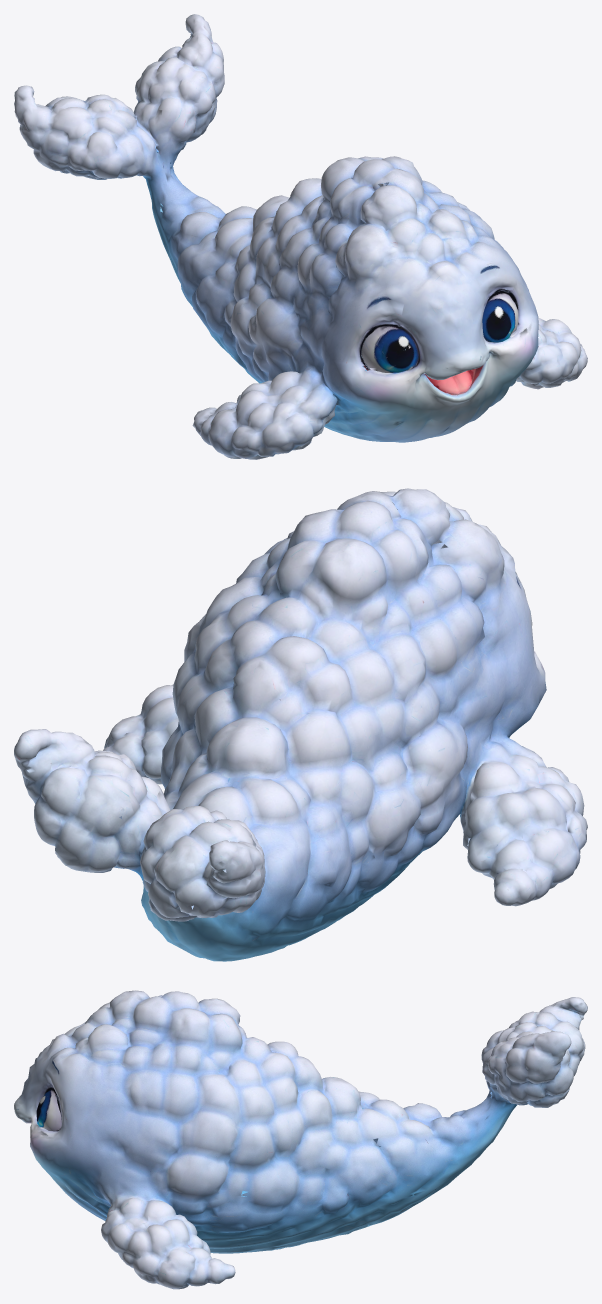
Rendered from whalecalf.glb.
The picture shows the model from 3 angles, top to bottom: view 1: azimuth 30°, elevation 25°; view 2: azimuth 150°, elevation 25°; view 3: azimuth 270°, elevation 25°; orthographic projection. The views are drawn at different scales.
Visible parts, largest first — view 1: whalecalf; view 2: whalecalf; view 3: whalecalf.
Boxes of the visible parts, box(x1,y1,x2,y2) form: whalecalf: box(14, 14, 587, 459); whalecalf: box(14, 488, 587, 961); whalecalf: box(14, 990, 587, 1289).
Bounding box in the file's own units: 2.12 × 1.6 × 3.36.
1 material, 1 textured.
